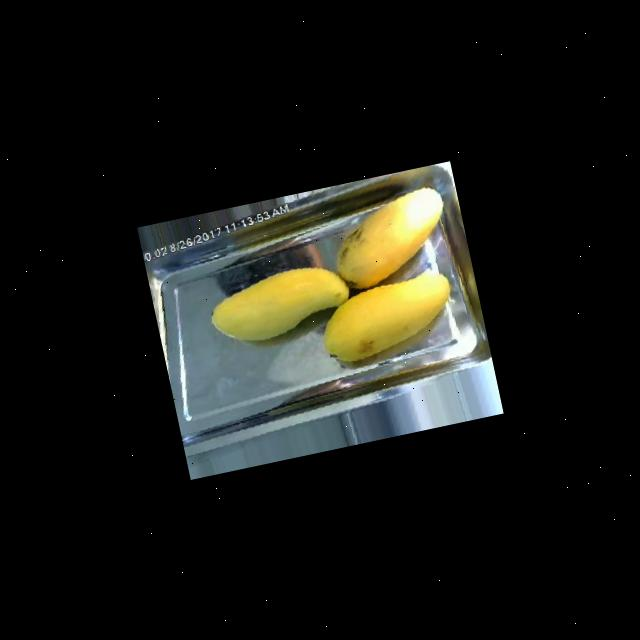Mango: (313, 264, 461, 366), (322, 184, 457, 294), (203, 257, 354, 349)
